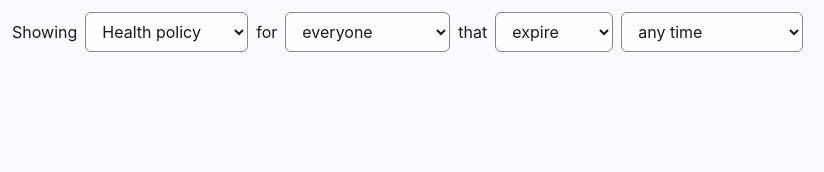
Test case: the adjustable sentence › picking another way to say when closes the two dates
Select "a custom range" in the dropdown named "When" at (712, 32), box [621, 12, 803, 52]
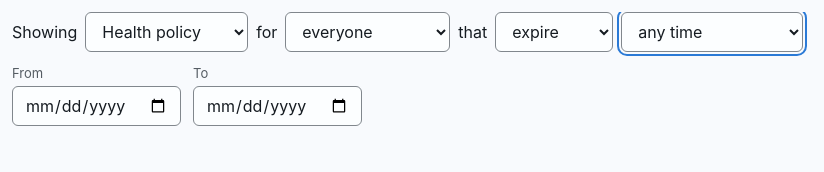
Select "any time" in the dropdown named "When" at (712, 32), box [621, 12, 803, 52]
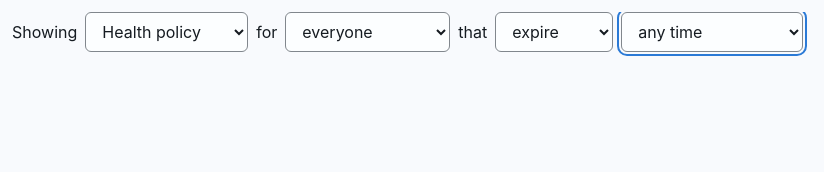
Now the label labelled "From" is gone
